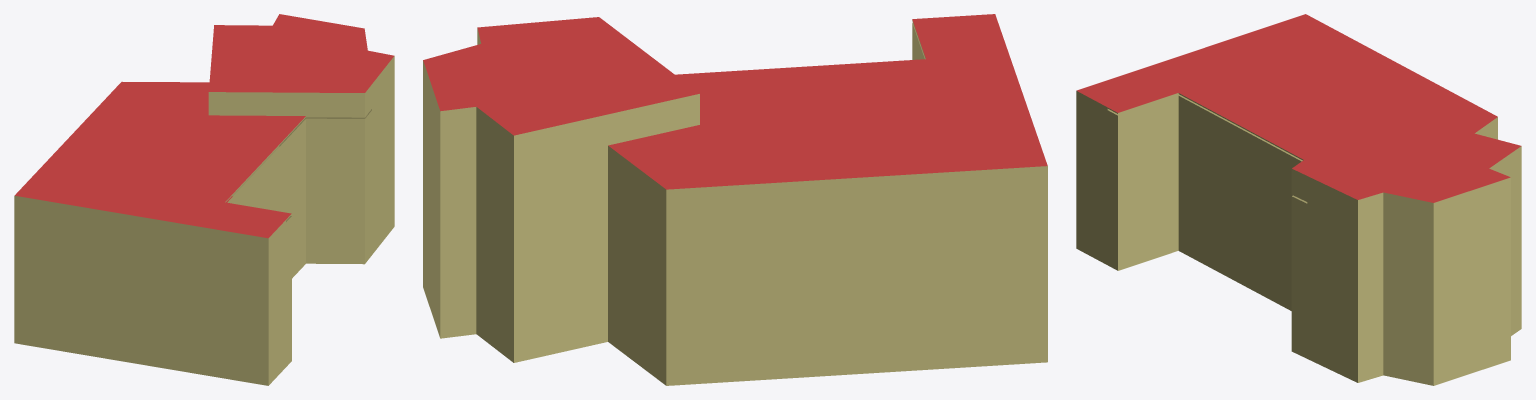
3 views of the same model, side by side, from view 1: azimuth 30°, elevation 25°; view 2: azimuth 150°, elevation 25°; view 3: azimuth 270°, elevation 25° (orthographic). The views are drawn at different scales.
Visible parts, largest first — view 1: group_4, group_3, group_7, group_6; view 2: group_4, group_3, group_7, group_6; view 3: group_7, group_4, group_3, group_6.
Boxes of the visible parts, x1,y1,x2,y2 form: group_4: [14, 116, 305, 385]; group_3: [15, 81, 305, 238]; group_7: [208, 56, 394, 264]; group_6: [208, 14, 393, 92]; group_4: [608, 20, 1047, 385]; group_3: [608, 14, 1047, 189]; group_7: [423, 28, 699, 362]; group_6: [423, 17, 699, 135]; group_7: [1291, 146, 1521, 385]; group_4: [1076, 91, 1497, 310]; group_3: [1076, 14, 1497, 159]; group_6: [1292, 108, 1520, 202].
Size of the model in its own units: 28.39 by 24.97 by 11.32.
